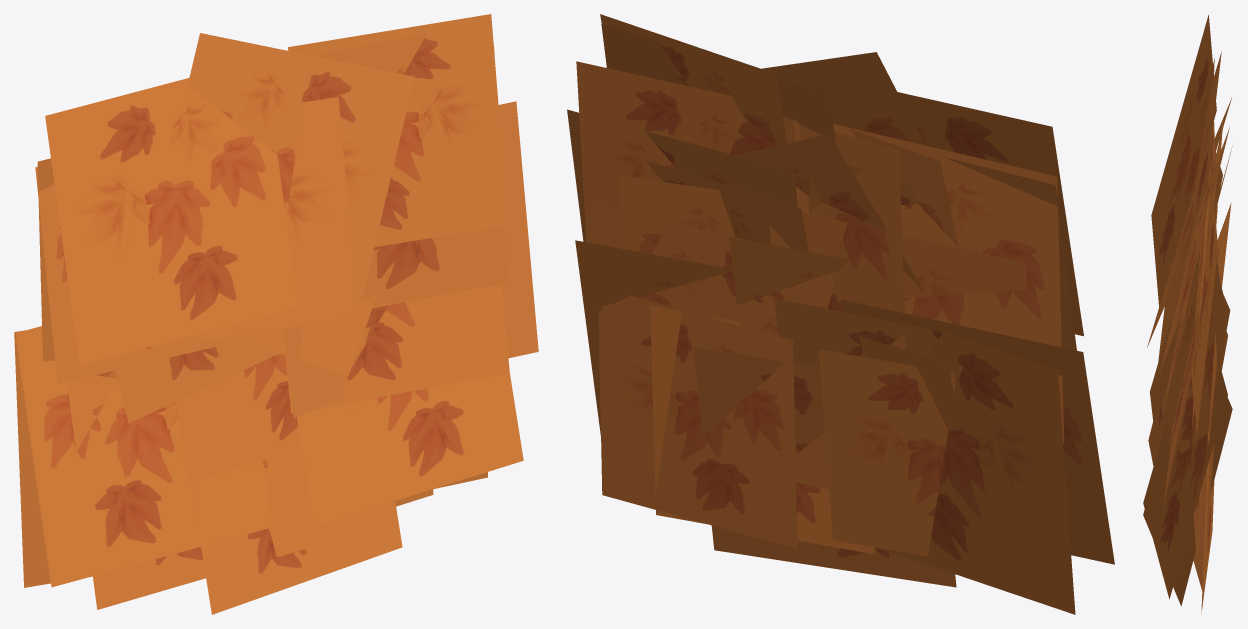
File: SM_Env_Vines_01.fbx
3 views of the same model, side by side, from view 1: azimuth 30°, elevation 25°; view 2: azimuth 150°, elevation 25°; view 3: azimuth 270°, elevation 25° (orthographic). The views are drawn at different scales.
Visible parts, largest first — view 1: SM_Env_Vines_01_LOD0; view 2: SM_Env_Vines_01_LOD0; view 3: SM_Env_Vines_01_LOD0.
Part boxes in pixels (x1,y1,x2,y2): SM_Env_Vines_01_LOD0: [14, 14, 538, 614]; SM_Env_Vines_01_LOD0: [567, 14, 1114, 614]; SM_Env_Vines_01_LOD0: [1143, 15, 1232, 613].
Size of what is drawn, in the model's own units: 381 by 395 by 67.8.
